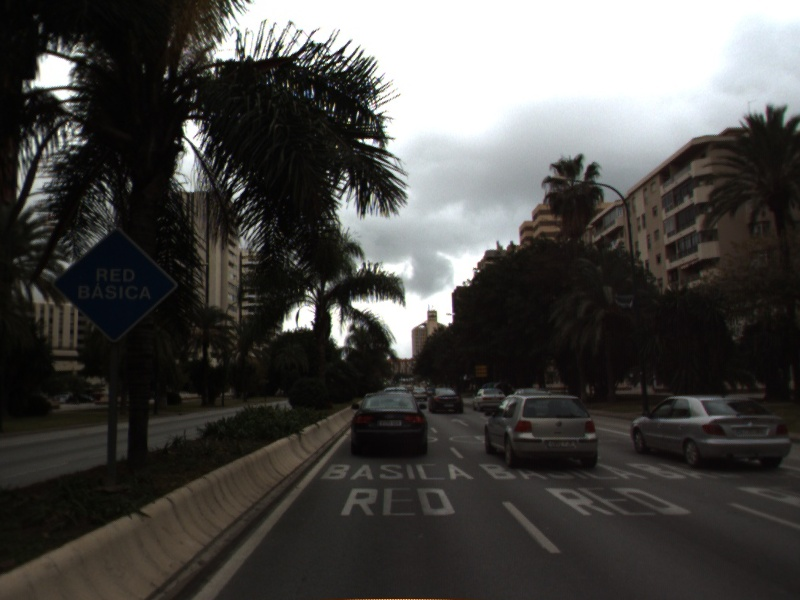STRAIGHT: (448, 416, 472, 428)
